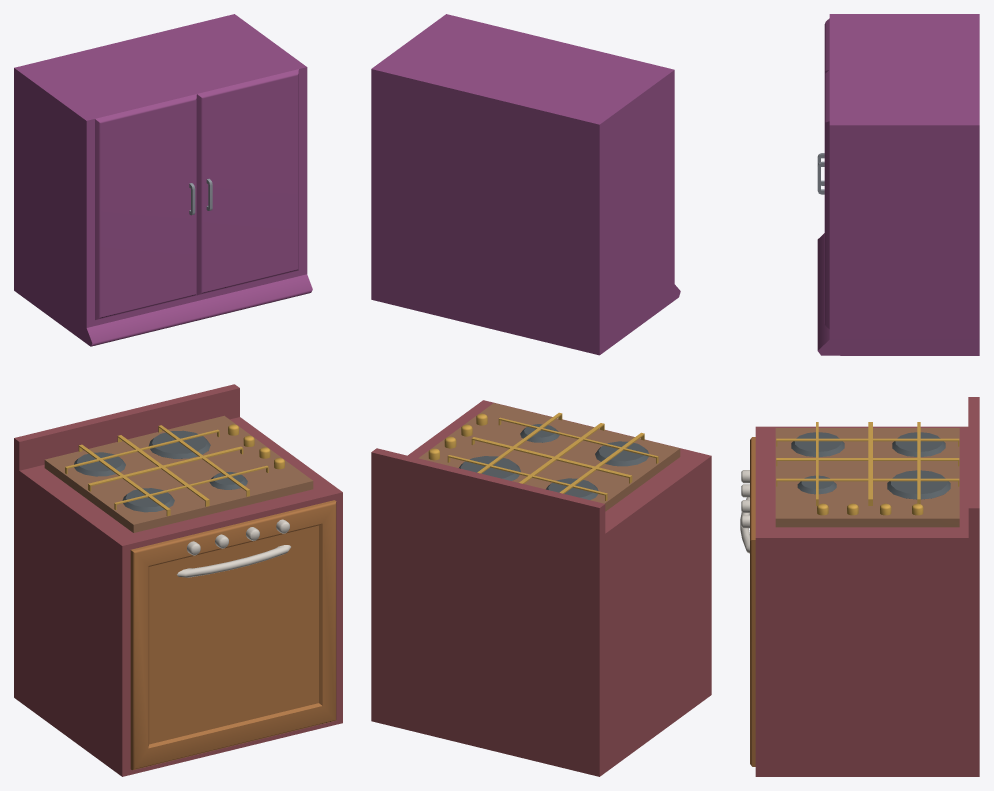
Rendered from CUCCINA_MACCHINA_GAS.fbx.
3 renders of one model, left to right at view 1: azimuth 30°, elevation 25°; view 2: azimuth 150°, elevation 25°; view 3: azimuth 270°, elevation 25°, orthographic. The views are drawn at different scales.
Parts seen in each view (by area): view 1: Cucina_Macchina_Gas; view 2: Cucina_Macchina_Gas; view 3: Cucina_Macchina_Gas.
Boxes of the visible parts, bbox=[...] form: Cucina_Macchina_Gas: bbox=[14, 14, 342, 776]; Cucina_Macchina_Gas: bbox=[371, 14, 711, 776]; Cucina_Macchina_Gas: bbox=[740, 14, 979, 776].
Bounding box in the file's own units: 2 × 5.46 × 1.82.
